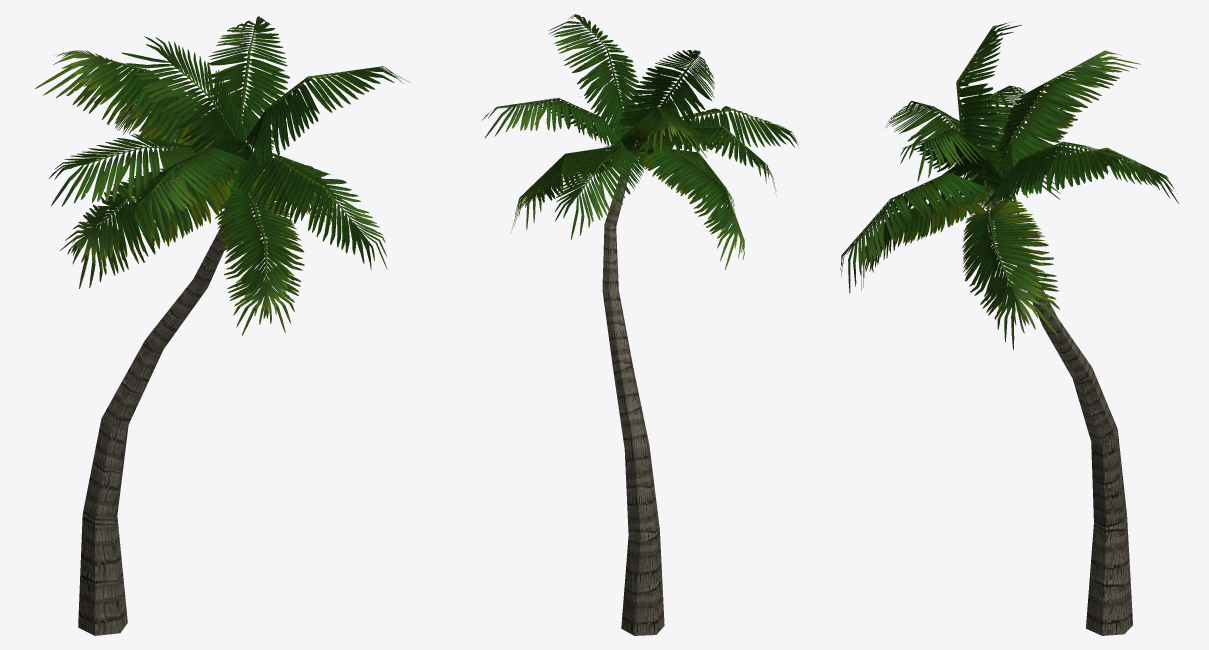
Rendered from palm2.FBX.
The picture shows the model from 3 angles, left to right: view 1: azimuth 30°, elevation 25°; view 2: azimuth 150°, elevation 25°; view 3: azimuth 270°, elevation 25°; orthographic projection. The views are drawn at different scales.
Parts seen in each view (by area): view 1: palmt2.tga; view 2: palmt2.tga; view 3: palmt2.tga.
Part boxes in pixels (box(x1,y1,x2,y2)): palmt2.tga: box(34, 16, 411, 635); palmt2.tga: box(482, 14, 799, 635); palmt2.tga: box(840, 21, 1178, 635).
Size of the model in its own units: 191 by 183 by 348.
